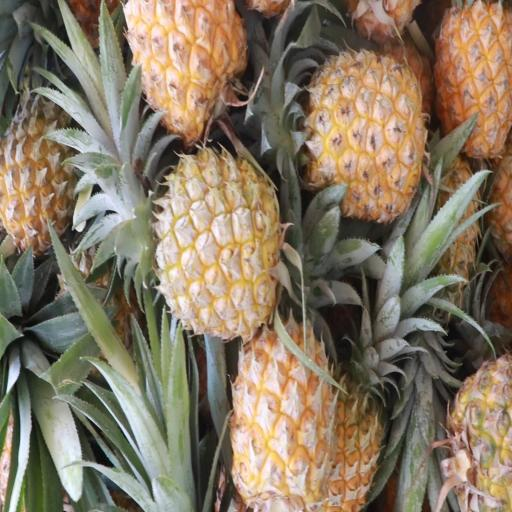Pineapple - v8 v1: (146, 142, 284, 345), (286, 46, 432, 219), (228, 295, 338, 512), (319, 272, 395, 512), (425, 4, 512, 152)
